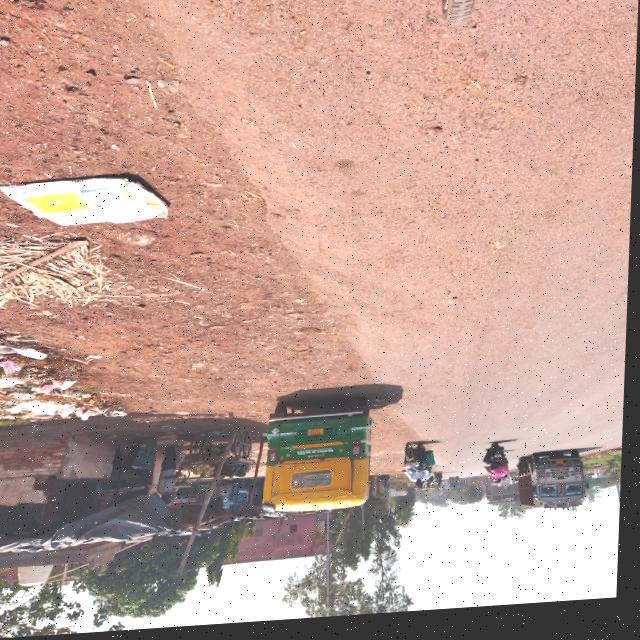plate: (311, 433, 327, 440), (560, 468, 568, 473), (498, 461, 506, 465)
